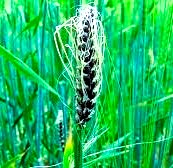Wheat Loose Smut: (71, 23, 102, 115)
